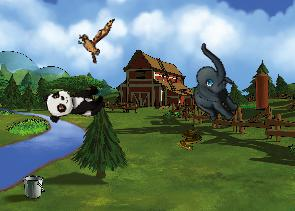eagle: (75, 15, 115, 65)
elephant: (169, 42, 258, 129)
panda: (42, 81, 107, 124)
